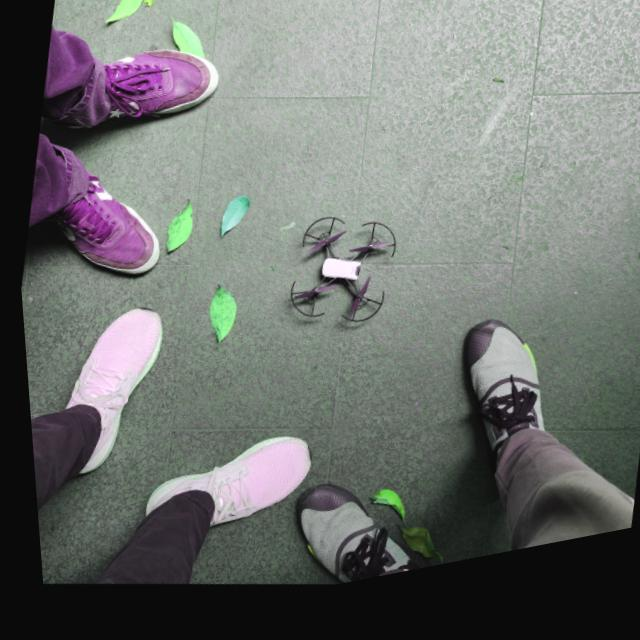drone: (285, 229, 391, 335)
